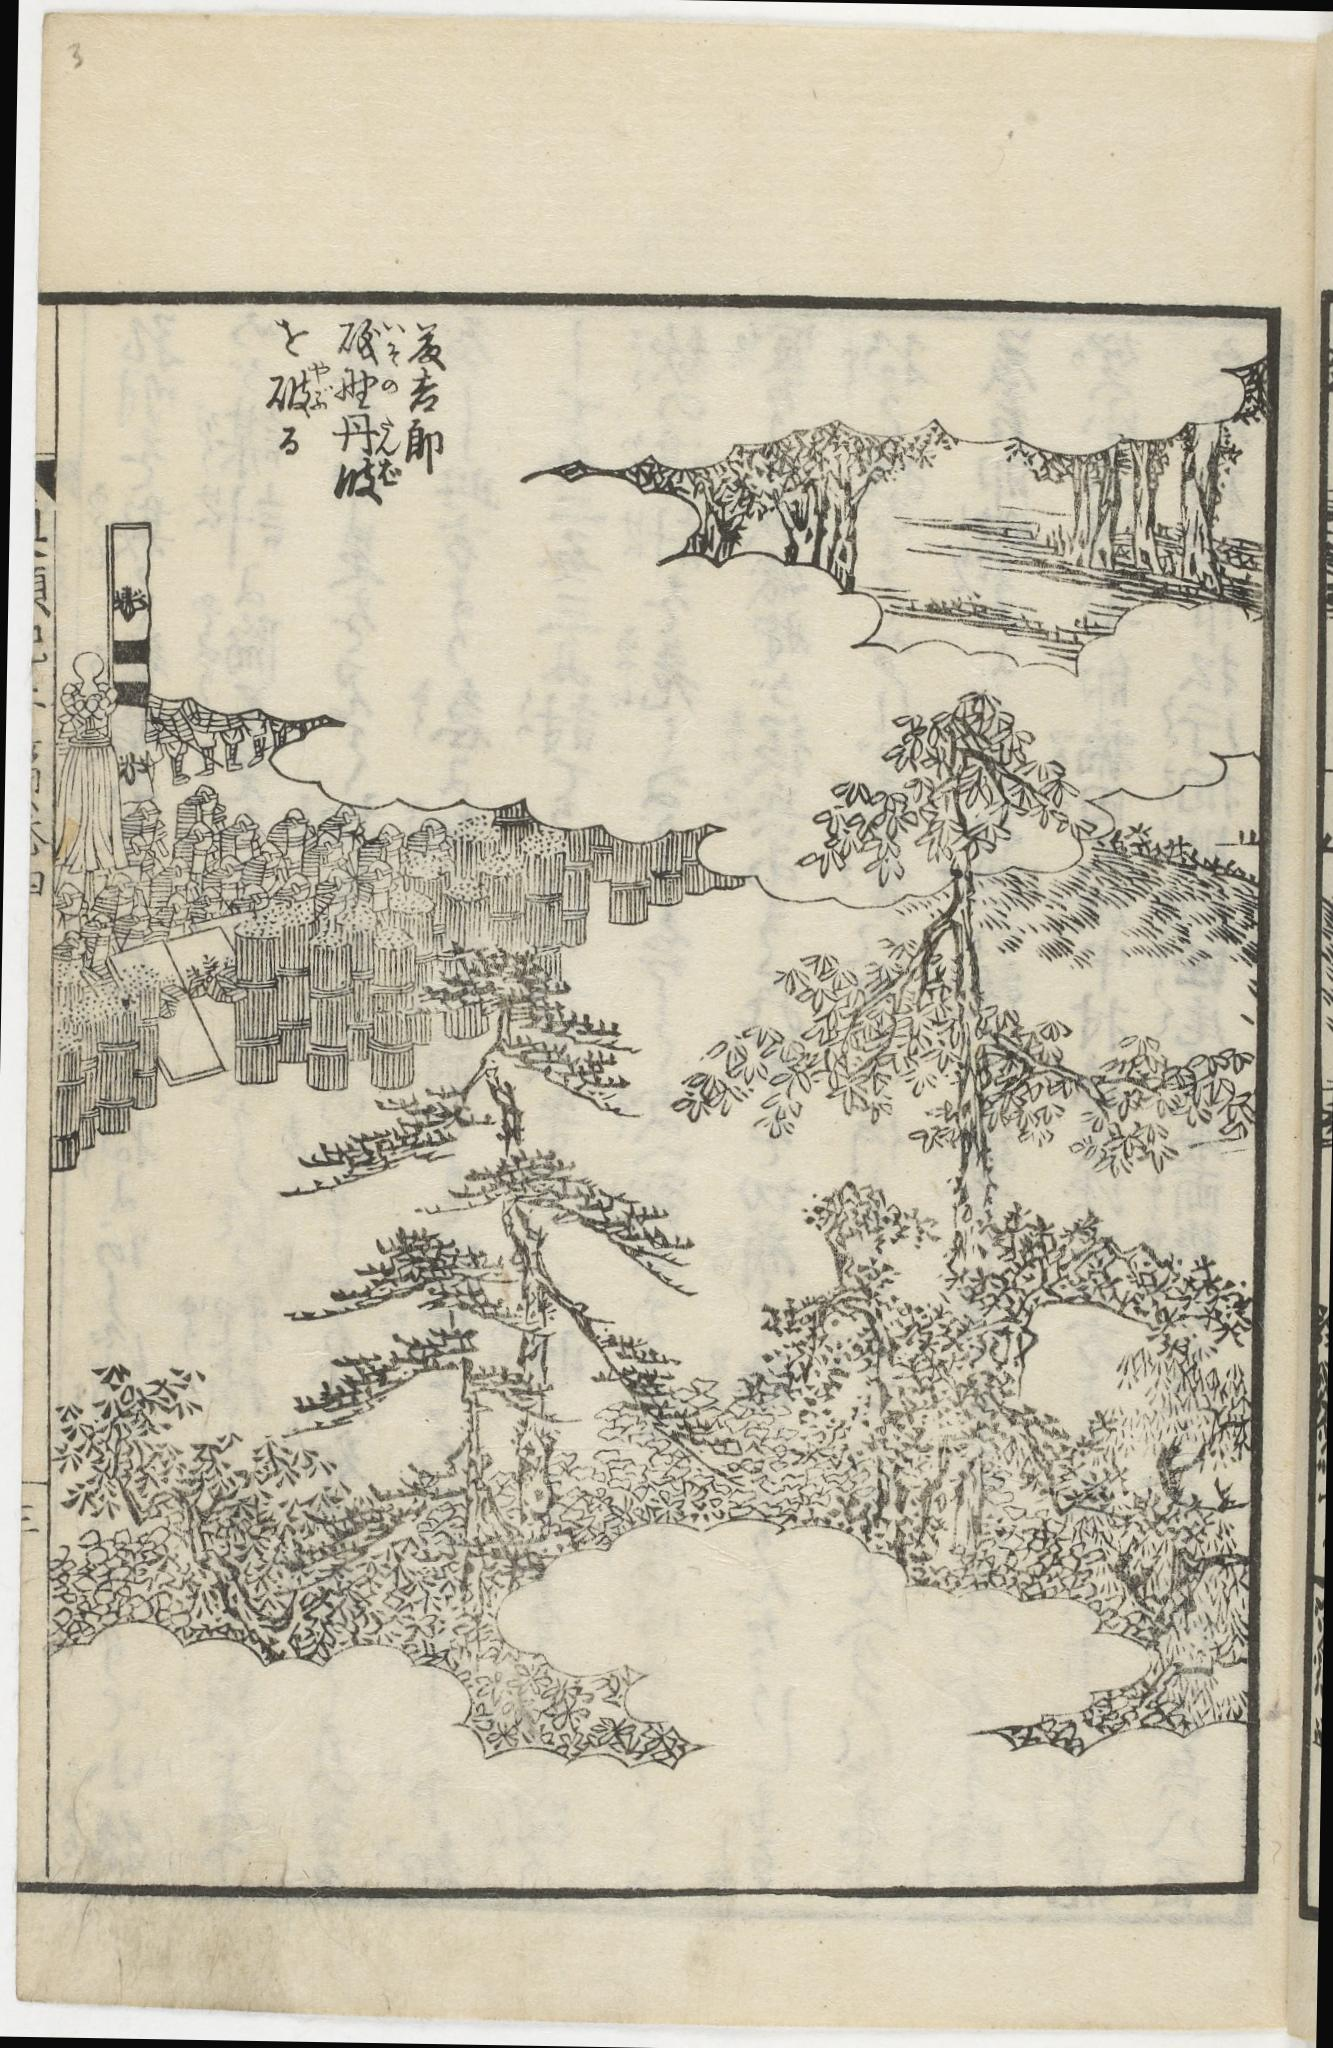MainZone-Character: (251, 358, 336, 415), (330, 457, 409, 509), (334, 312, 408, 363), (333, 408, 400, 457), (336, 367, 400, 410)
MainZone-Ruby: (308, 355, 334, 412), (382, 316, 410, 366), (375, 412, 403, 455), (375, 457, 405, 488), (381, 373, 400, 402)
